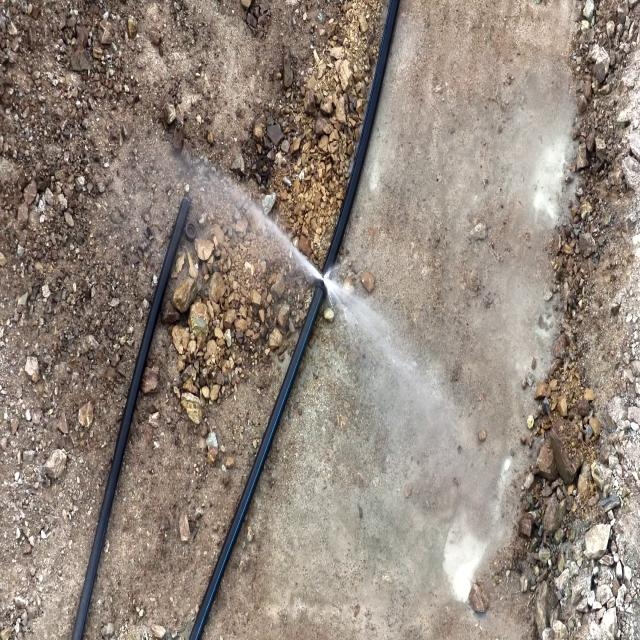leak: (218, 164, 375, 327)
